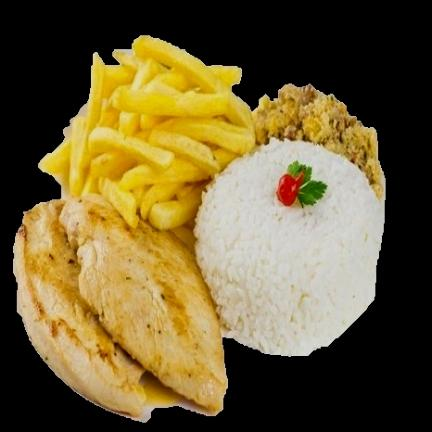chicken: (12, 197, 225, 425)
potato: (38, 37, 259, 233)
rice: (195, 143, 381, 357)
